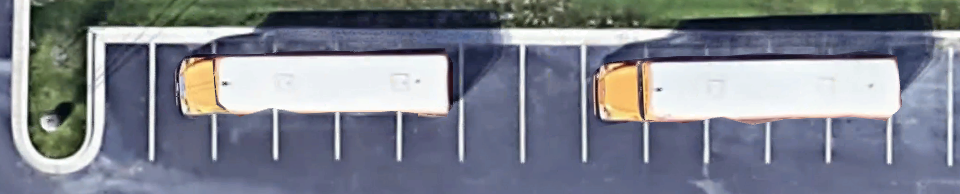Occupied: (152, 38, 214, 162), (400, 39, 462, 162), (275, 39, 337, 161), (584, 40, 646, 162), (215, 39, 276, 162), (707, 41, 768, 164), (829, 41, 890, 164), (338, 39, 399, 161), (647, 41, 707, 163), (768, 41, 828, 163)
Vacant: (523, 40, 585, 162), (890, 42, 951, 166), (462, 40, 523, 162), (98, 38, 152, 162)
